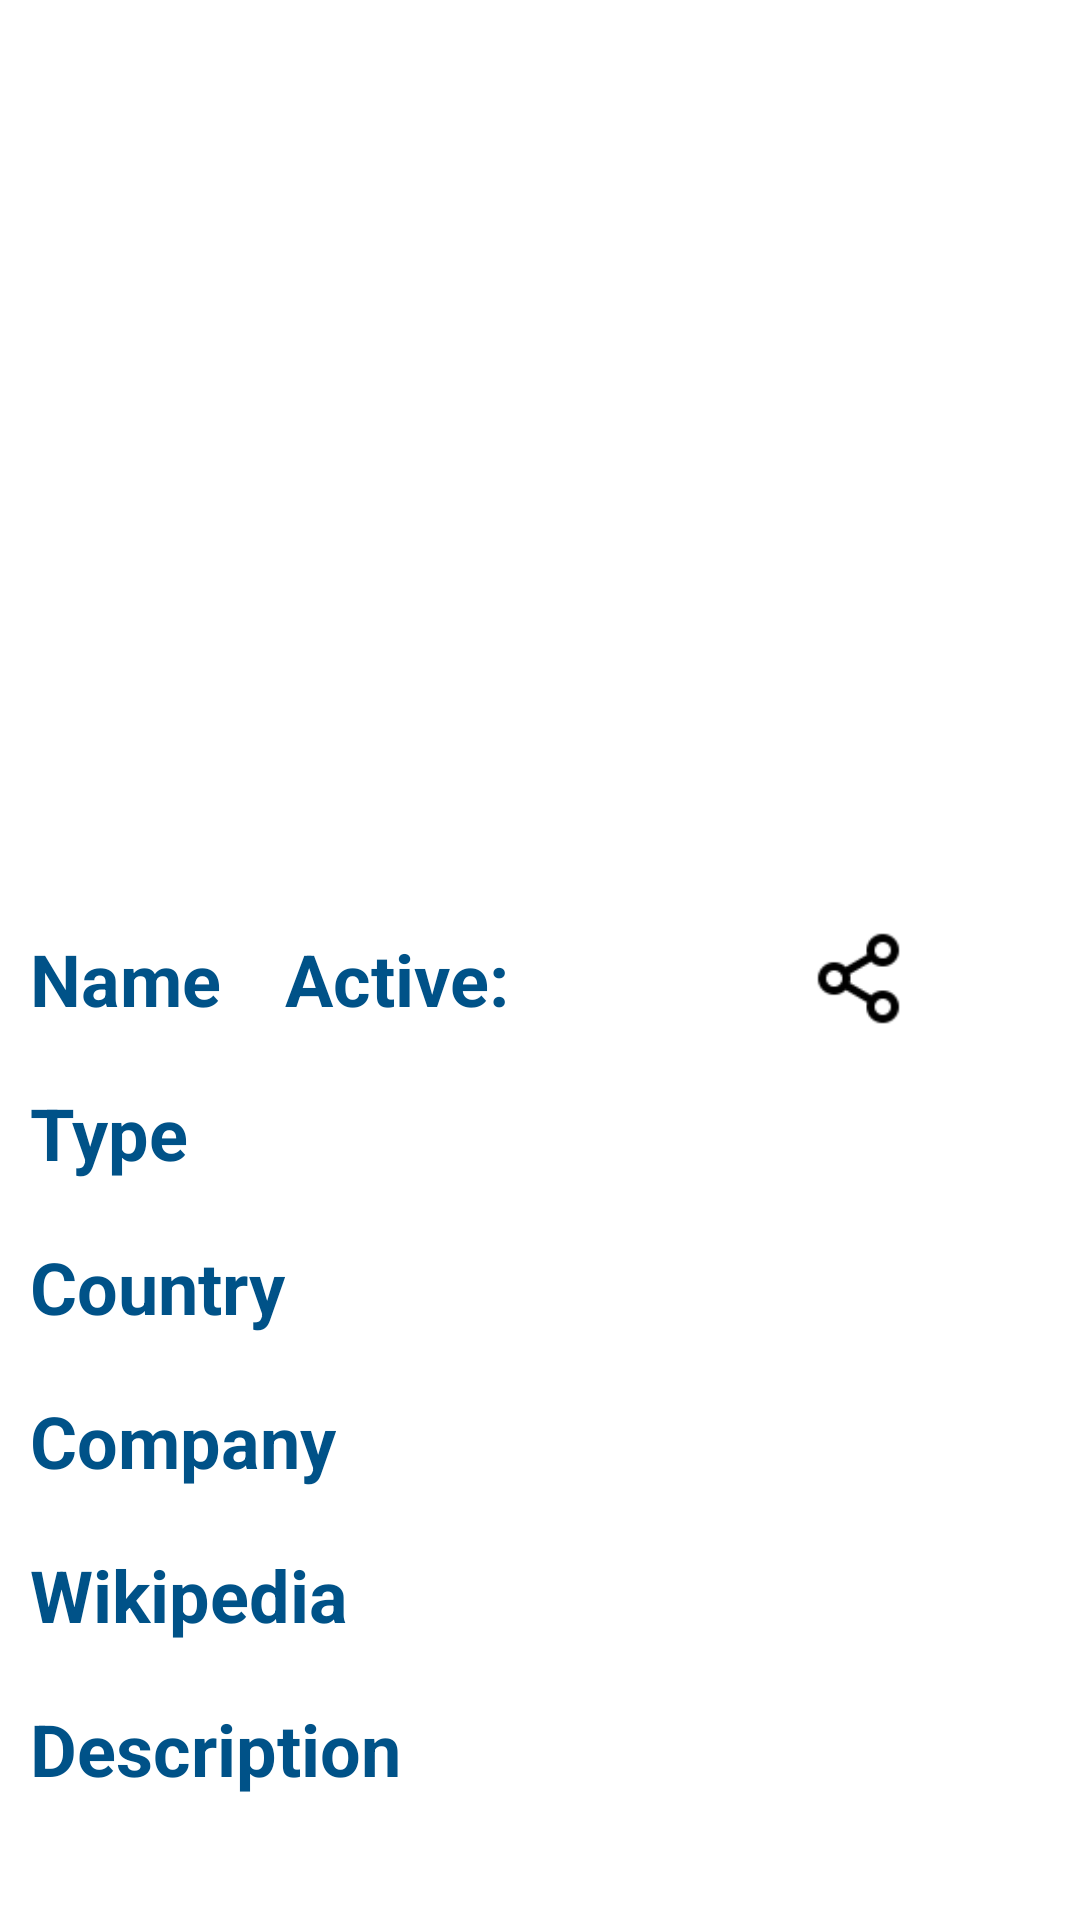

Named icons in this screenshot (1080×1920) and their bounding boxes, [x1=x1, y1=y1, x2=x2, y2=y2]:
share: [x1=817, y1=933, x2=900, y2=1024]
